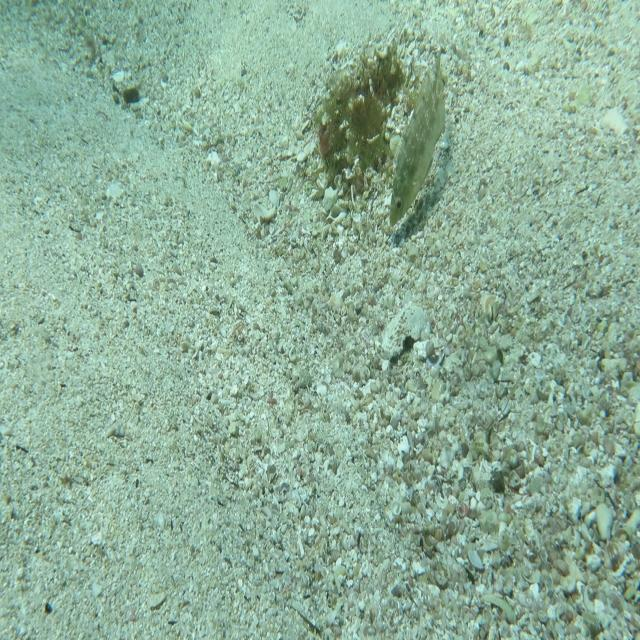SA: (388, 46, 448, 230)
nest: (311, 46, 408, 215)
vegetation: (122, 82, 142, 108)
